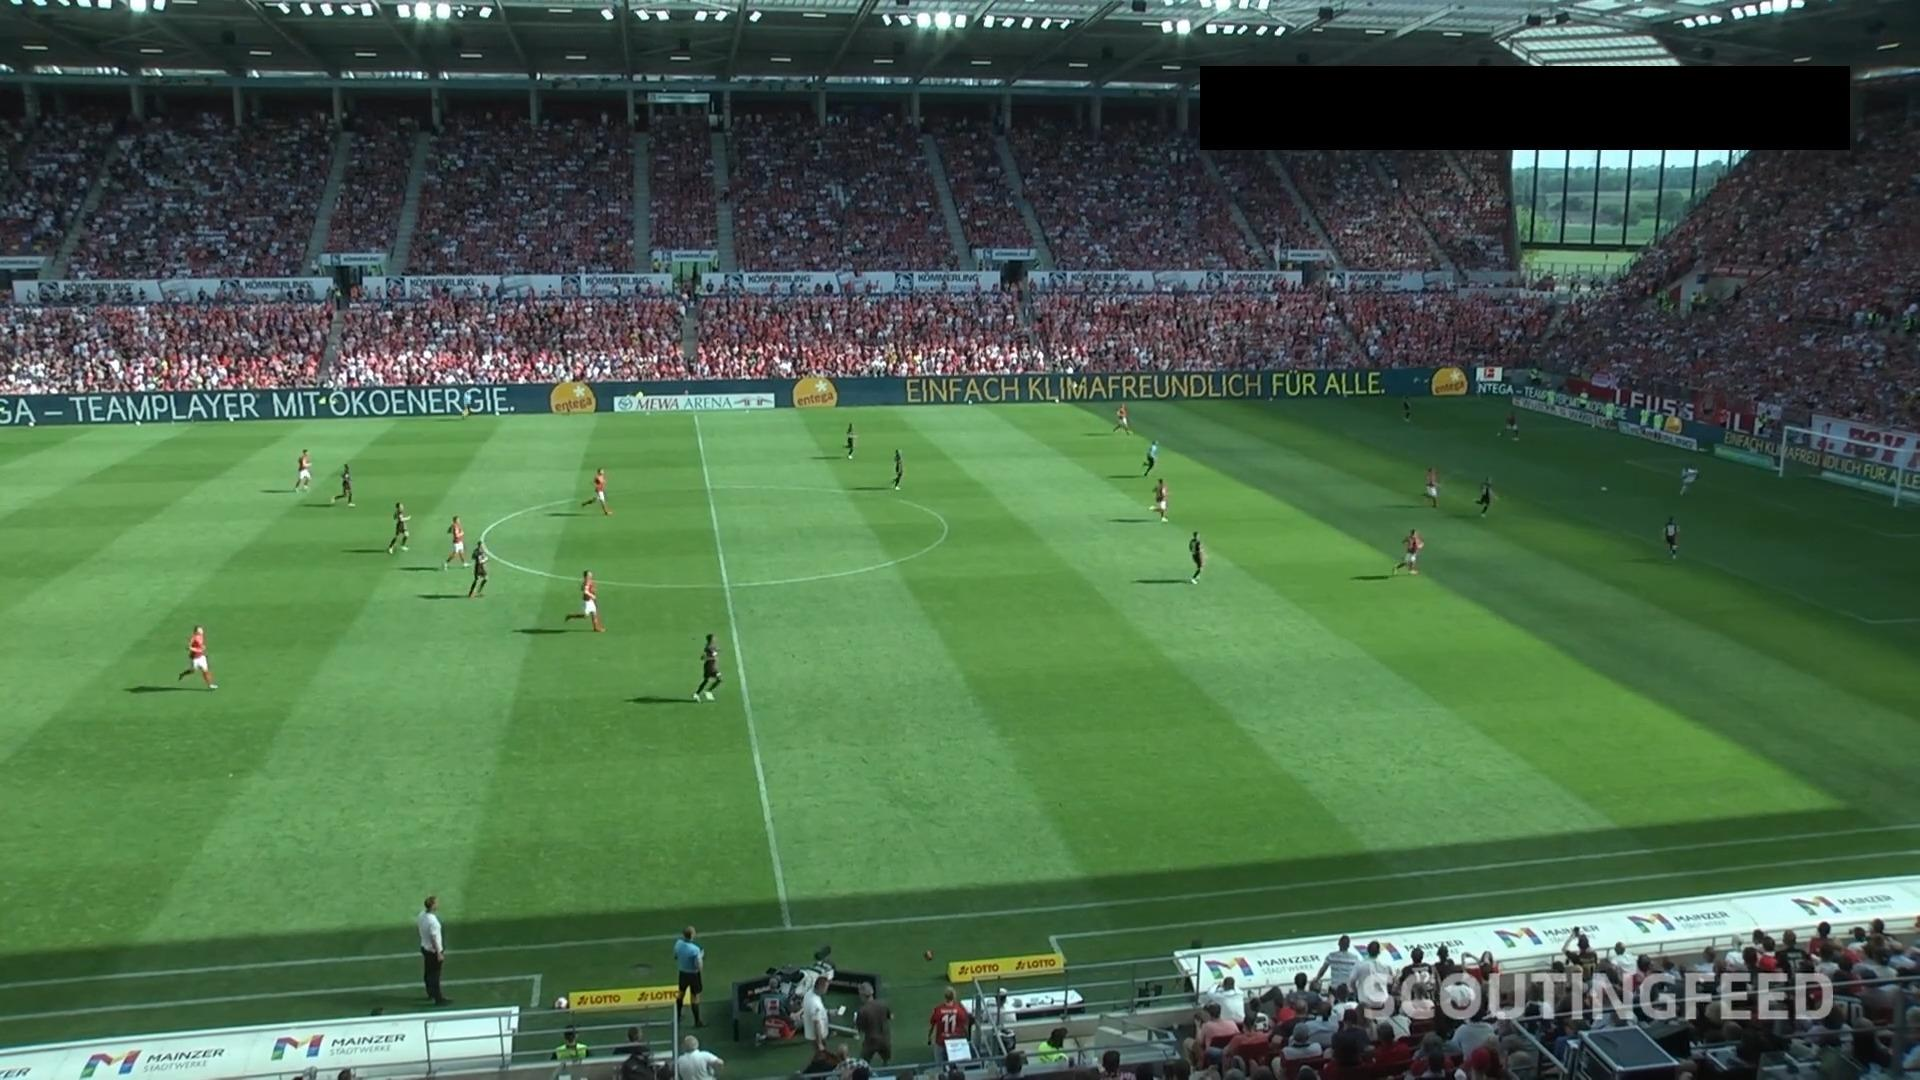ball: (1600, 485, 1607, 492)
